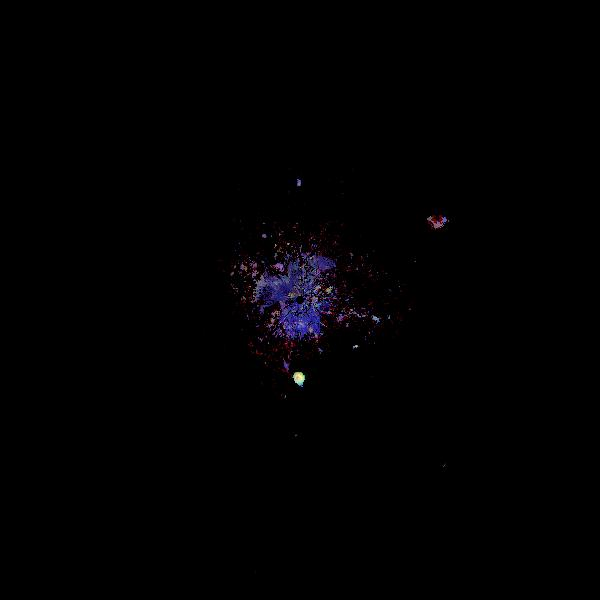roost: (425, 210, 449, 234), (290, 369, 305, 384)
